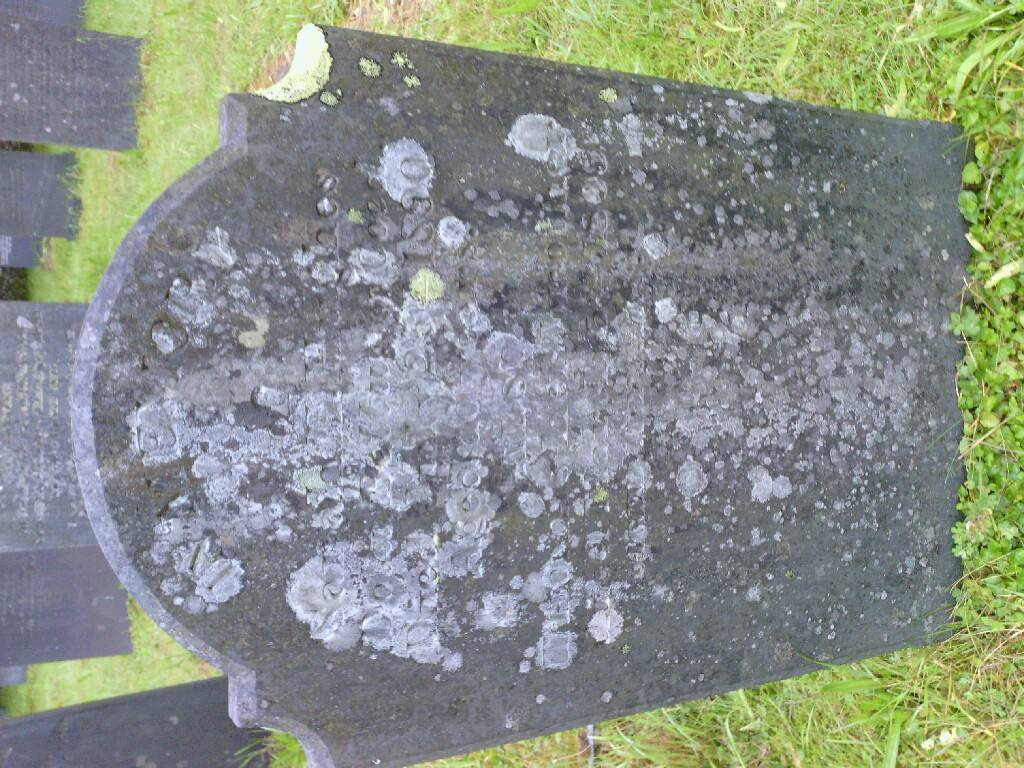upright: (71, 21, 975, 768)
